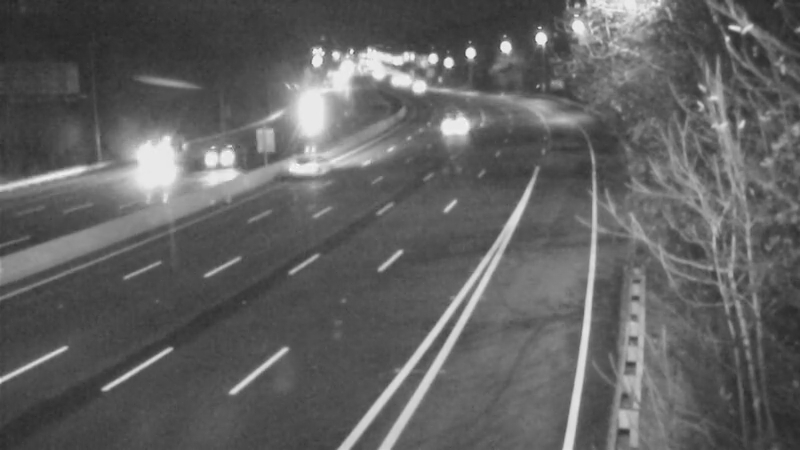vehicle: (270, 128, 350, 208), (117, 133, 197, 213), (179, 117, 259, 197), (425, 99, 475, 149), (282, 85, 332, 135)
